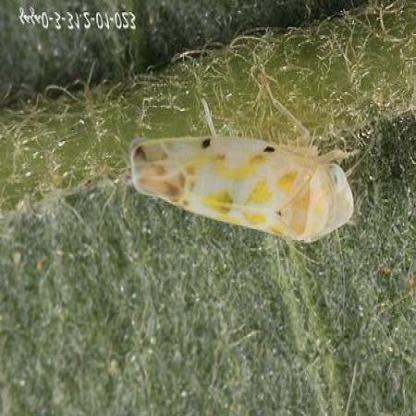green-leafhopper: (129, 110, 351, 247)
